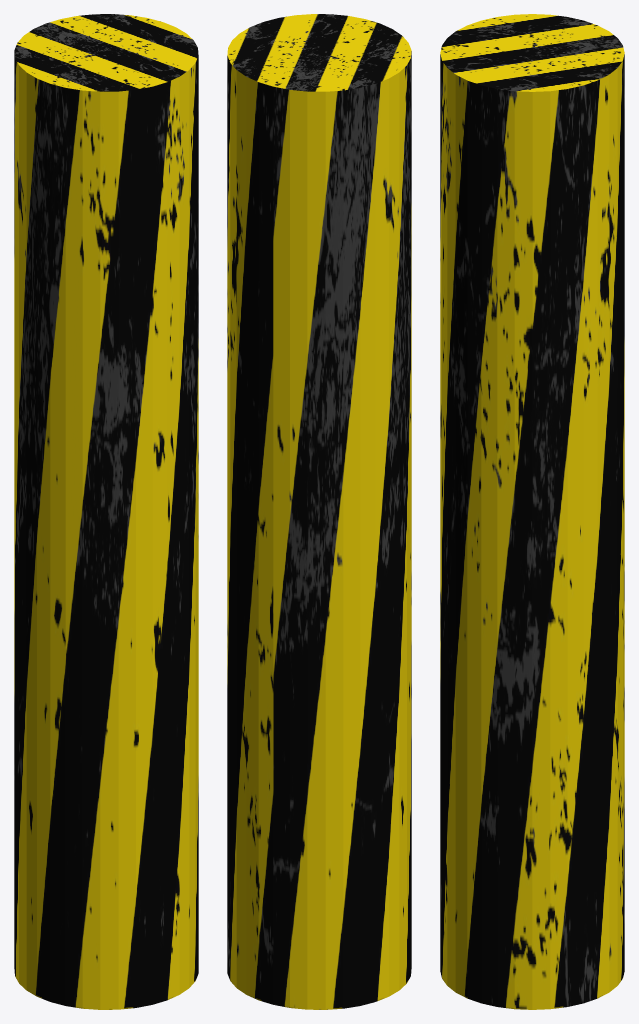
Rendered from Bollard.fbx.
3 views of the same model, side by side, from view 1: azimuth 30°, elevation 25°; view 2: azimuth 150°, elevation 25°; view 3: azimuth 270°, elevation 25° (orthographic).
Parts seen in each view (by area): view 1: Cylinder; view 2: Cylinder; view 3: Cylinder.
Part boxes in pixels (x1,y1,x2,y2): Cylinder: (14, 14, 198, 1009); Cylinder: (227, 14, 411, 1009); Cylinder: (440, 14, 624, 1009).
Bounding box in the file's own units: 95.4 × 524 × 95.4.
Materials: 1 (1 with a texture image).
